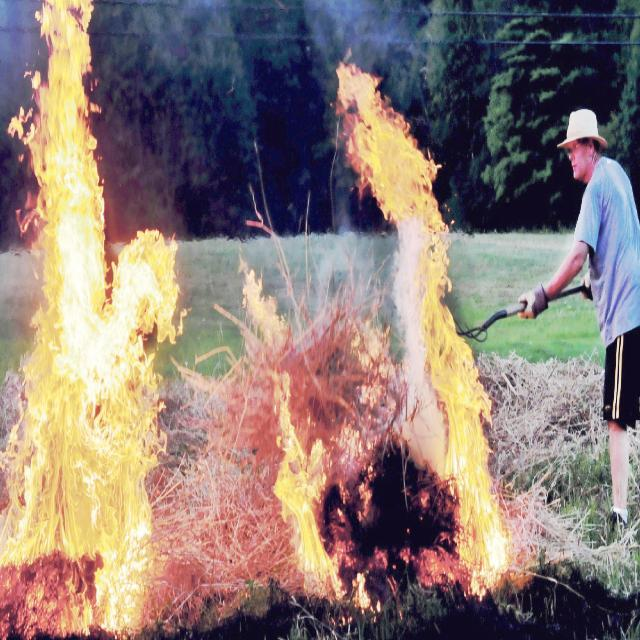api: (2, 4, 177, 632), (444, 330, 513, 592), (345, 64, 445, 219), (277, 467, 342, 603), (428, 214, 458, 430), (275, 407, 327, 470), (354, 563, 376, 622)
asap: (398, 227, 428, 449)
